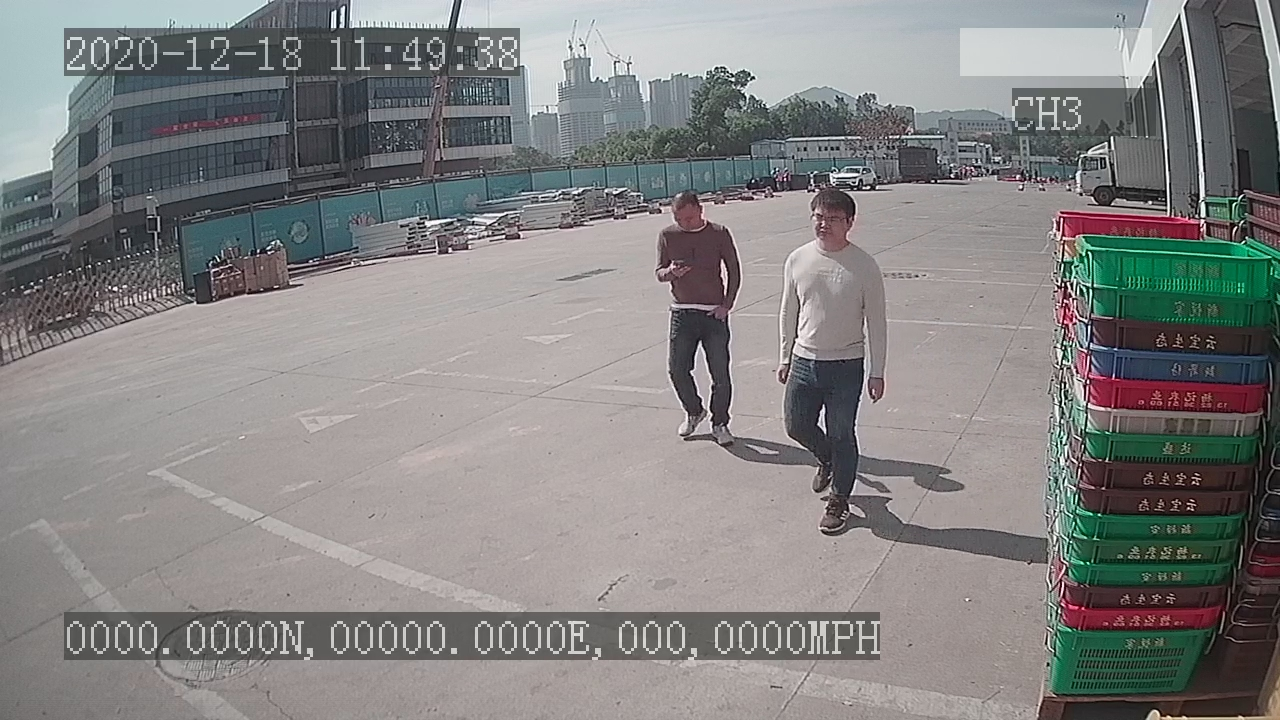person: (772, 183, 893, 538), (654, 186, 742, 451)
